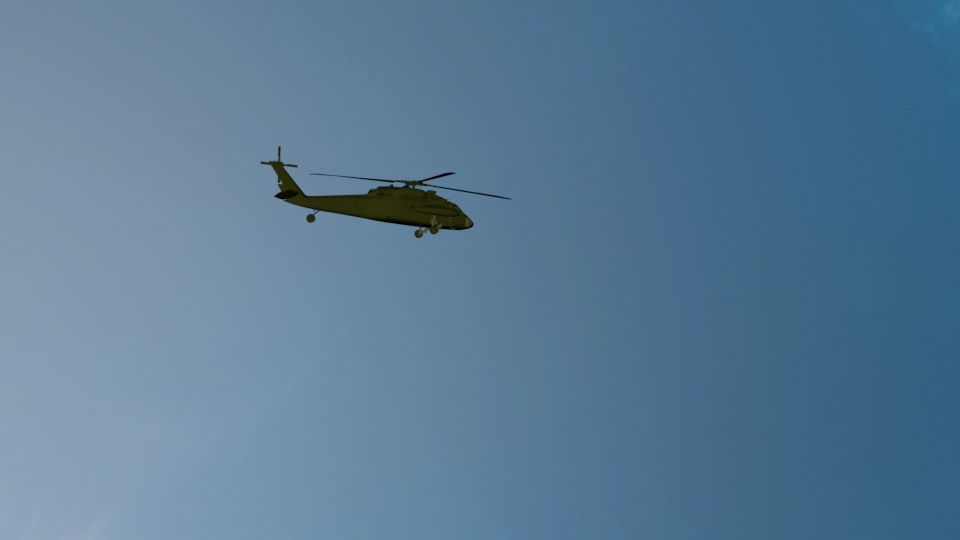heli: (260, 144, 475, 239)
